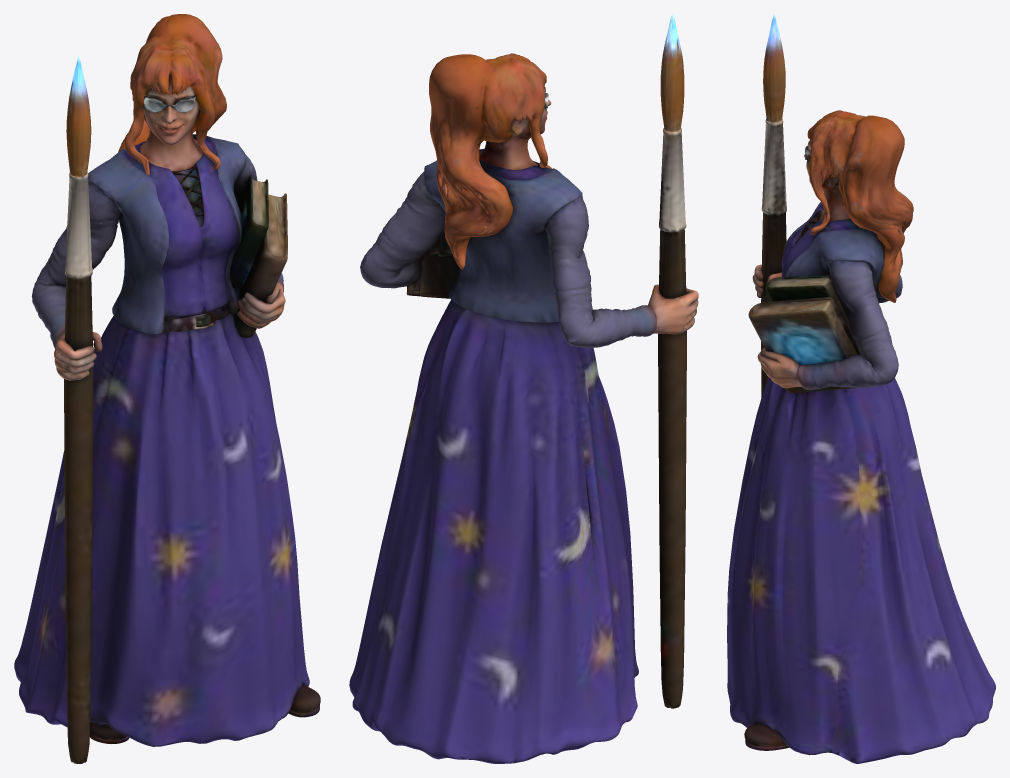
Rendered from MZ4250 - Wizard Female with Giant Paintbrush_1 2025.glb.
3 views of the same model, side by side, from view 1: azimuth 30°, elevation 25°; view 2: azimuth 150°, elevation 25°; view 3: azimuth 270°, elevation 25° (orthographic). The views are drawn at different scales.
Visible parts, largest first — view 1: Base.001; view 2: Base.001; view 3: Base.001.
Boxes of the visible parts, x1=… form: Base.001: x1=14, y1=14, x2=320, y2=763; Base.001: x1=349, y1=14, x2=698, y2=763; Base.001: x1=727, y1=14, x2=995, y2=763.
Bounding box in the file's own units: 41.89 × 98.82 × 37.78.
Materials: 2 (2 with a texture image).
